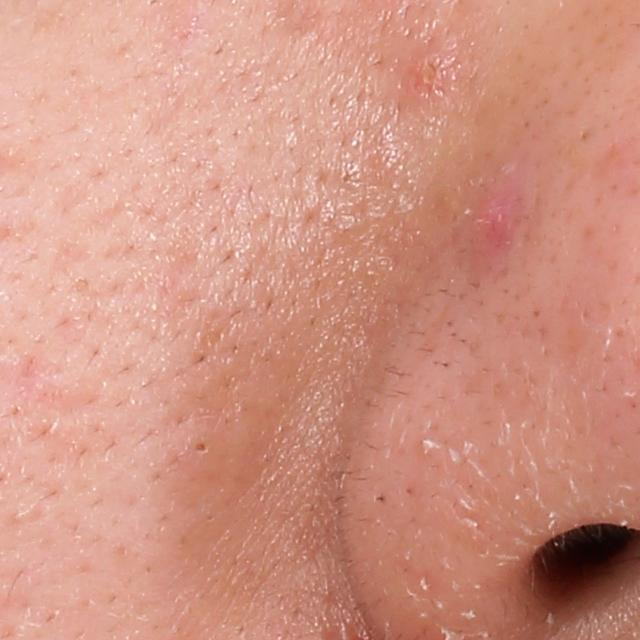comedo: (186, 437, 206, 457)
papule: (398, 38, 470, 109), (467, 182, 514, 253)
